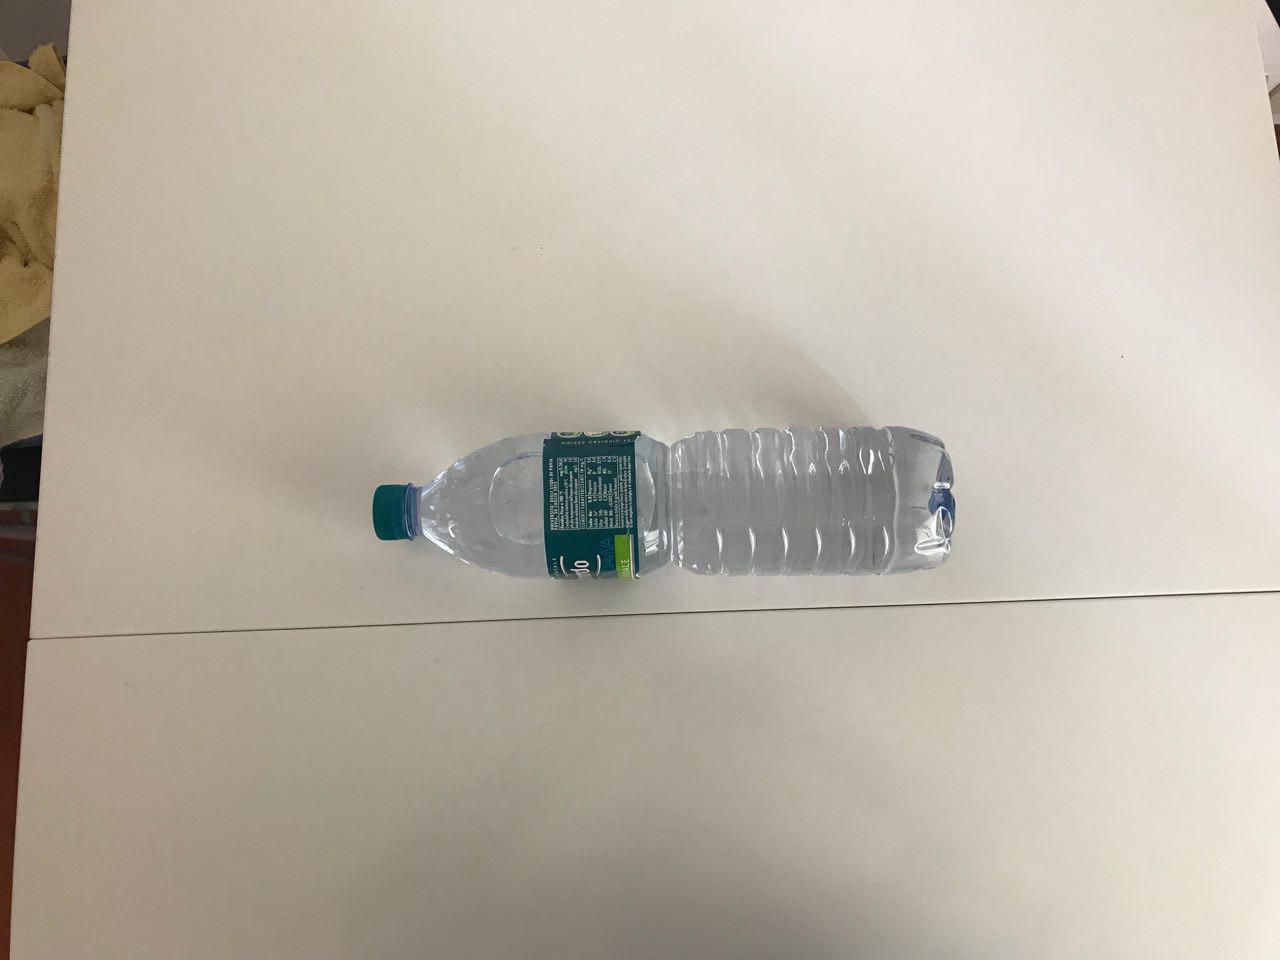san_bernardo: (371, 423, 957, 581)
